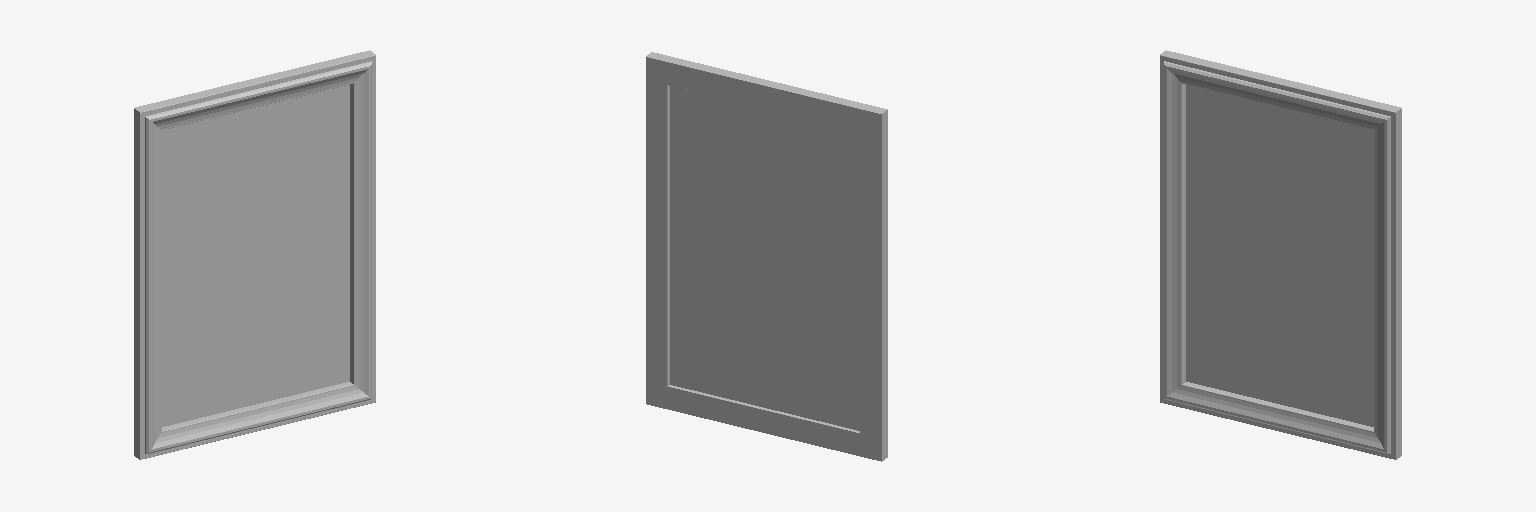
Rendered from OldPortraitWitch_01.obj.
3 views of the same model, side by side, from view 1: azimuth 30°, elevation 25°; view 2: azimuth 150°, elevation 25°; view 3: azimuth 330°, elevation 25° (orthographic).
Parts seen in each view (by area): view 1: Witch_01_Linum_low; view 2: Witch_01_Linum_low; view 3: Witch_01_Linum_low.
Boxes of the visible parts, x1,y1,x2,y2 form: Witch_01_Linum_low: [134, 50, 375, 459]; Witch_01_Linum_low: [646, 52, 887, 461]; Witch_01_Linum_low: [1160, 50, 1401, 459].
Size of the model in its own units: 0.4097 by 0.576 by 0.0265.